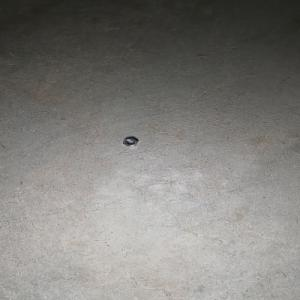Nut: (122, 137, 138, 147)
